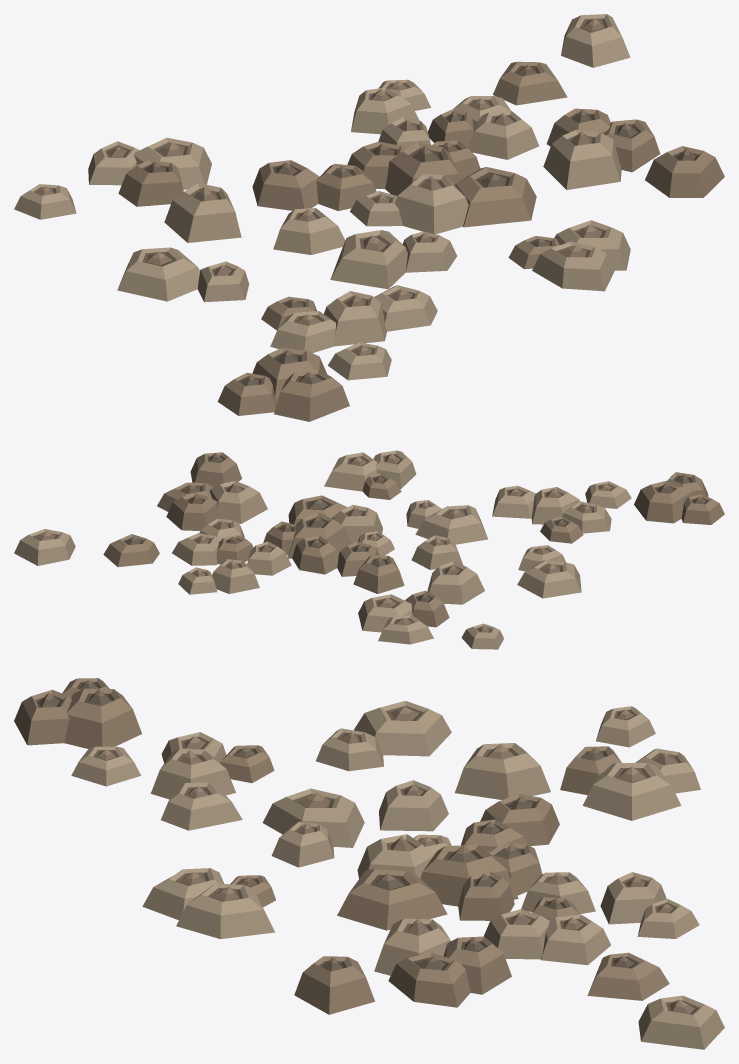
The model's file is SM_Env_Barnacles_01.fbx.
3 renders of one model, top to bottom at view 1: azimuth 30°, elevation 25°; view 2: azimuth 150°, elevation 25°; view 3: azimuth 270°, elevation 25°, orthographic. The views are drawn at different scales.
Parts seen in each view (by area): view 1: SM_Env_Barnacles_01_LOD0; view 2: SM_Env_Barnacles_01_LOD0; view 3: SM_Env_Barnacles_01_LOD0.
Boxes of the visible parts, bbox=[...] form: SM_Env_Barnacles_01_LOD0: bbox=[14, 14, 724, 421]; SM_Env_Barnacles_01_LOD0: bbox=[14, 450, 724, 649]; SM_Env_Barnacles_01_LOD0: bbox=[14, 678, 724, 1049].
Size of what is drawn, in the model's own units: 170 by 10.24 by 144.
